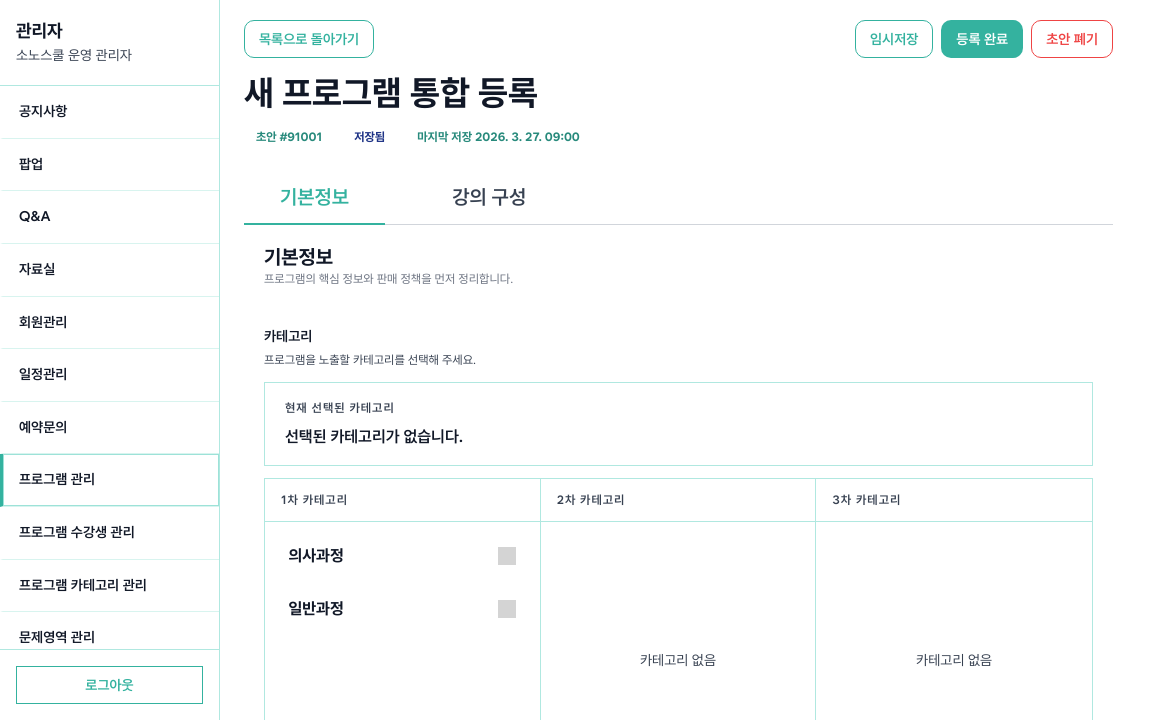
Scenario: AdminConsolePage › blocks a new-cohort duplicate while its copied recruitment and learning periods have ended
The image size is (1152, 720).
Expected: the heading "새 프로그램 통합 등록" is shown, 244,72 -> 538,113
Click the button "등록 완료". click: (982, 39)
box: 941,20 -> 1023,58
(page scrolled)
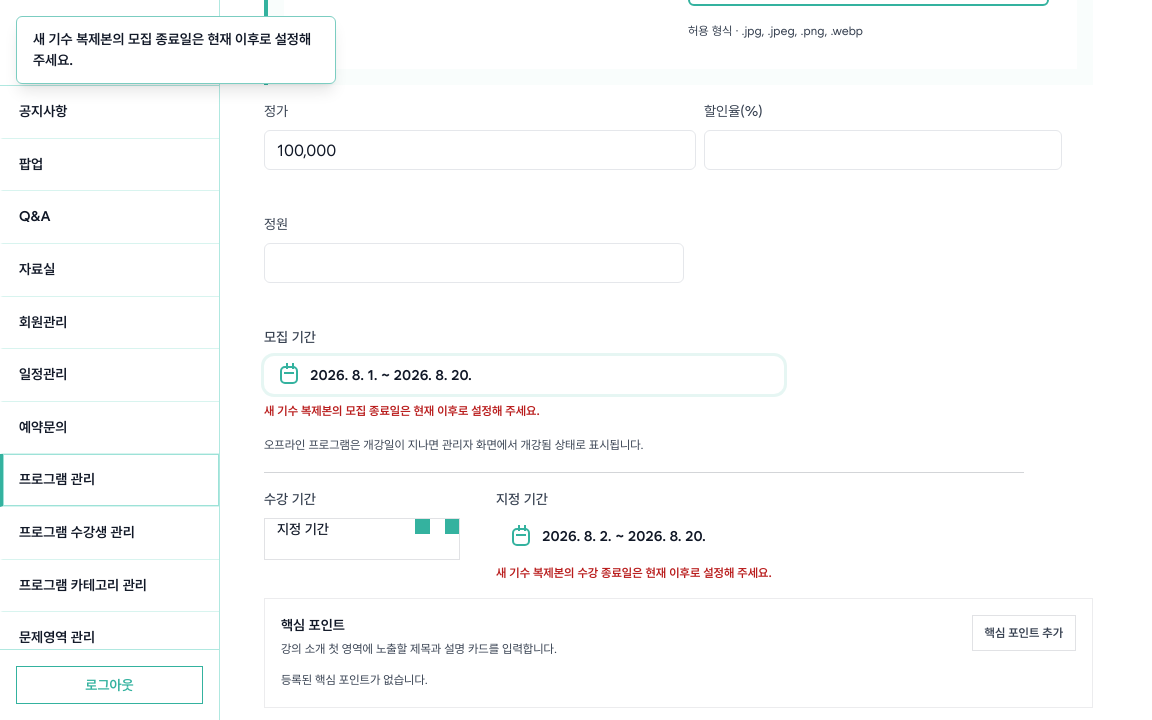
Result: the 1st text "새 기수 복제본의 모집 종료일은 현재 이후로 설정해 주세요." is shown at 16,16 -> 336,84
Result: the text "새 기수 복제본의 수강 종료일은 현재 이후로 설정해 주세요." is shown at 496,566 -> 772,580
